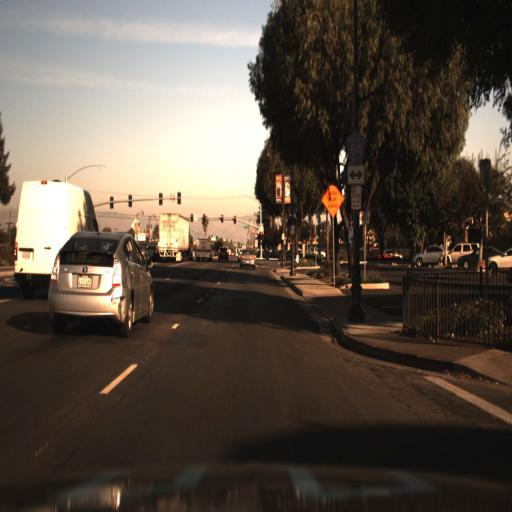car: (46, 224, 156, 337), (12, 176, 95, 290), (456, 244, 505, 269), (409, 236, 446, 269), (193, 232, 215, 266), (445, 236, 467, 270), (454, 246, 483, 271), (236, 247, 256, 271), (146, 240, 162, 264), (215, 241, 231, 264)
trafficLight-Red: (187, 210, 196, 227), (218, 208, 226, 224), (231, 210, 238, 227), (199, 210, 206, 224), (258, 226, 264, 240)
truck: (155, 203, 194, 259)
